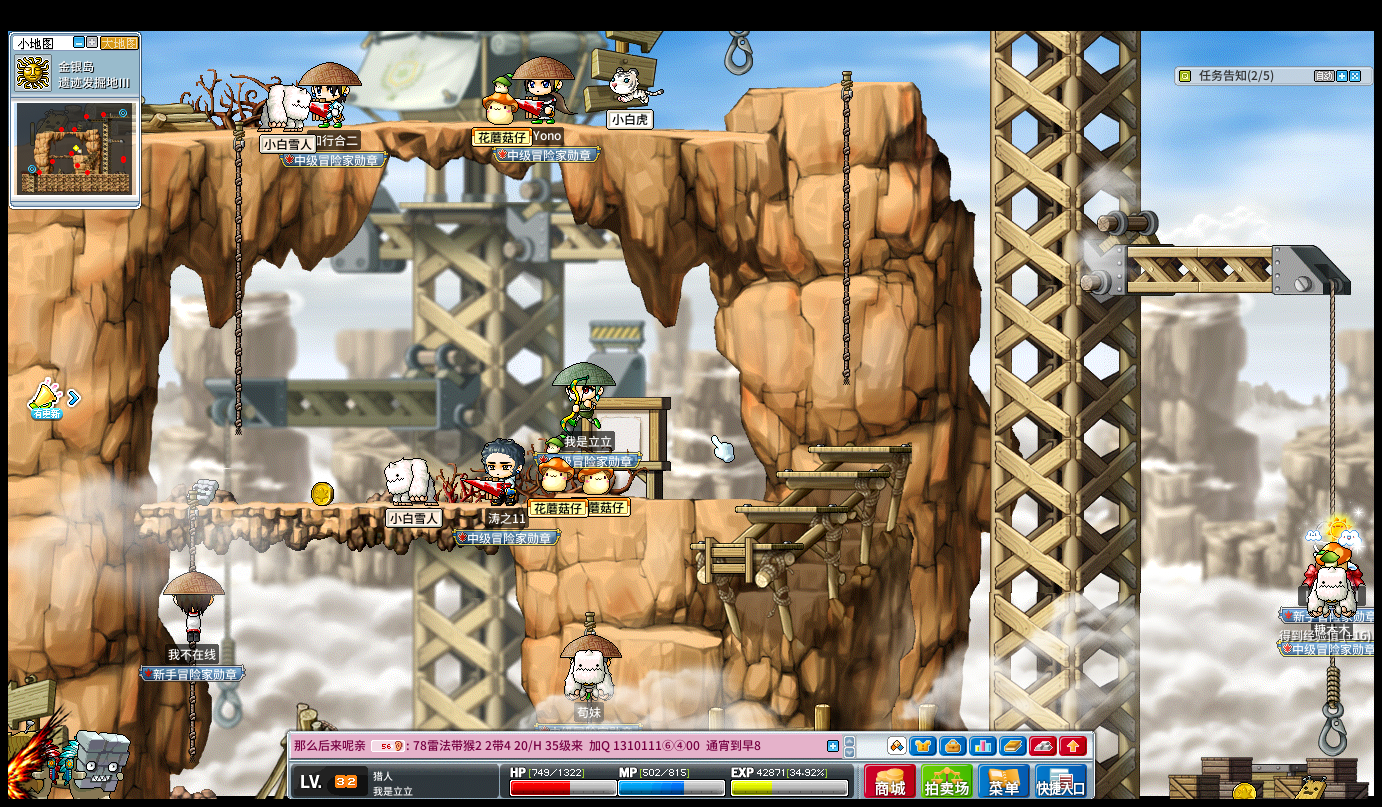floor: (199, 118, 716, 141), (136, 498, 516, 512), (1122, 241, 1324, 255), (746, 80, 924, 94), (613, 626, 721, 648), (751, 77, 920, 91), (733, 504, 848, 516), (630, 496, 772, 505), (769, 470, 882, 481), (688, 540, 799, 550), (806, 443, 912, 453), (739, 504, 850, 513)
monster: (62, 731, 130, 794)
rope: (838, 66, 853, 390), (230, 116, 242, 430), (1324, 290, 1338, 496), (183, 492, 196, 571), (185, 683, 196, 764), (1325, 656, 1339, 714), (1324, 457, 1337, 510)
